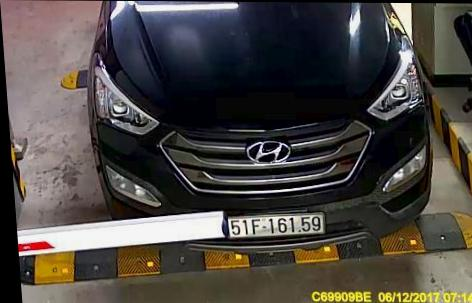License_Plate: (226, 212, 329, 237)
